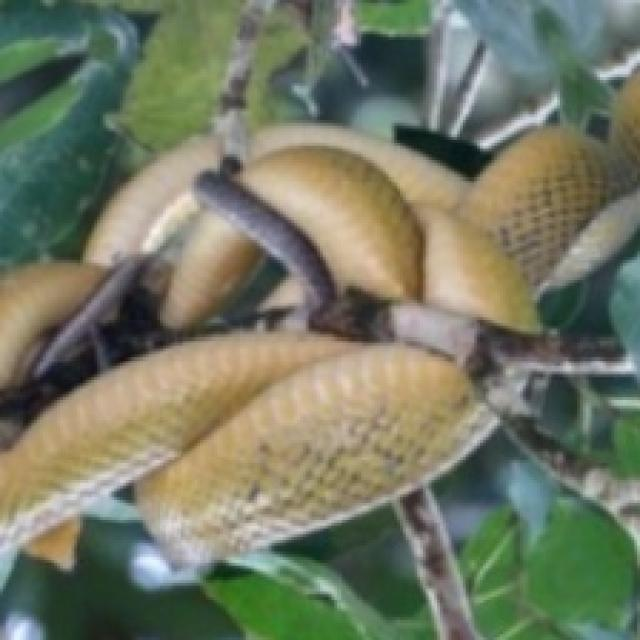red-tailed green ratsnake: (0, 75, 640, 567)
